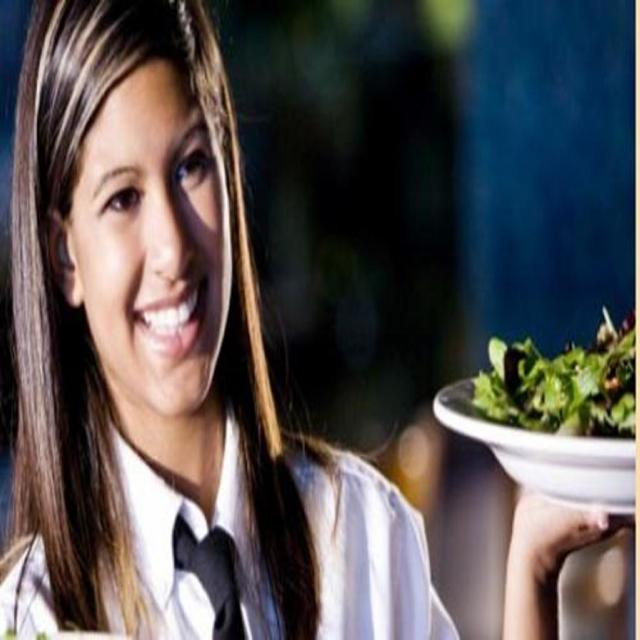nomask: (72, 58, 232, 410)
